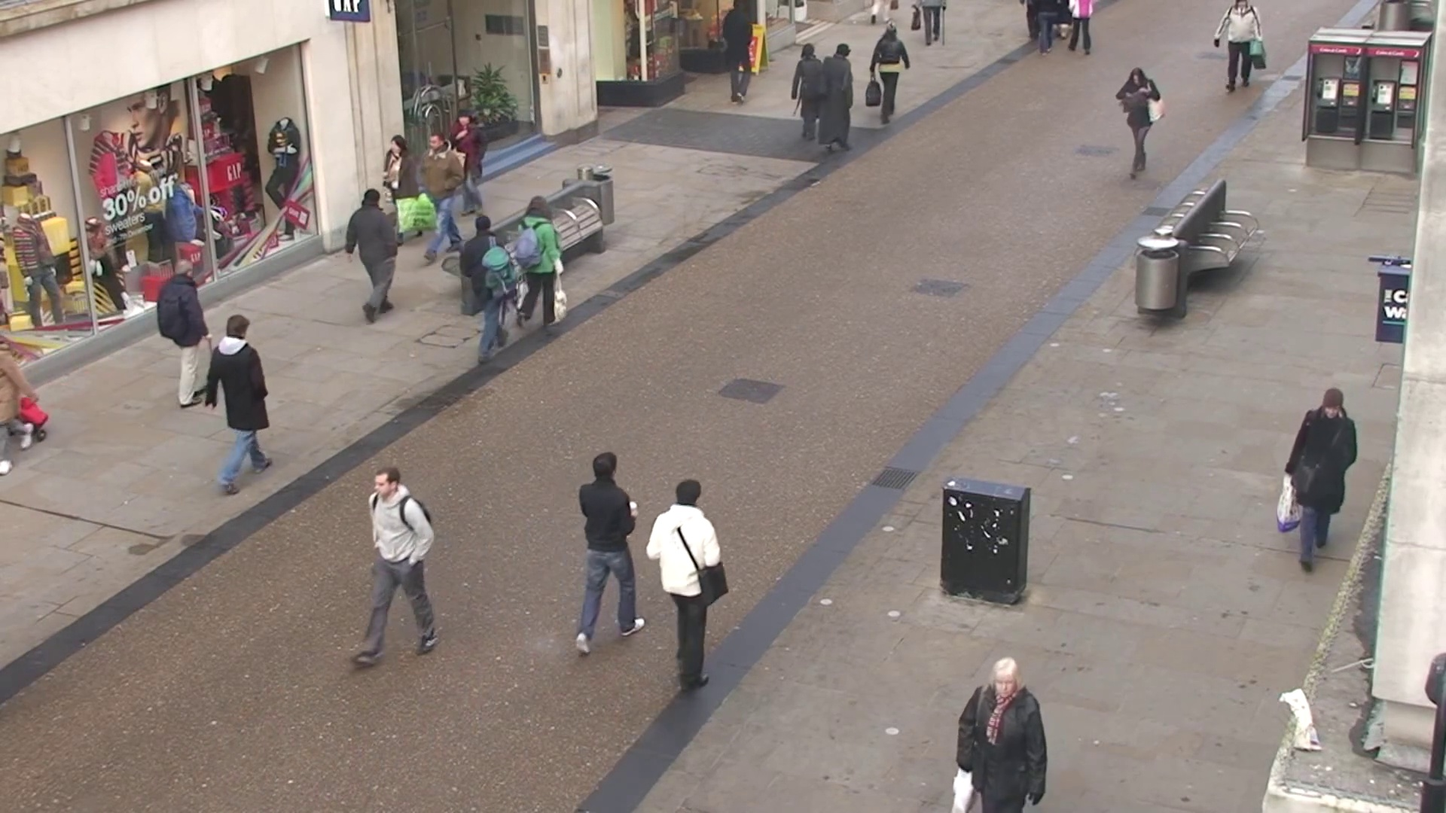person: (352, 467, 440, 664), (648, 477, 727, 692), (572, 452, 648, 654), (954, 655, 1049, 813), (1284, 386, 1361, 574), (206, 314, 273, 498), (458, 207, 520, 364), (156, 249, 213, 410), (434, 96, 501, 212), (346, 186, 403, 320), (508, 202, 565, 332), (414, 123, 459, 275), (1114, 65, 1164, 180), (869, 17, 911, 126), (1215, 0, 1261, 91), (790, 39, 828, 148), (821, 41, 856, 152), (379, 136, 409, 230)
